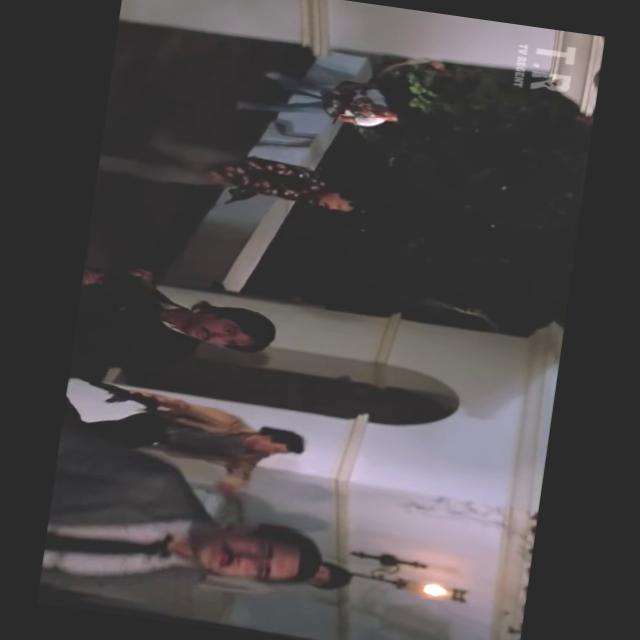long weapon: (52, 360, 202, 435), (306, 72, 370, 146)
